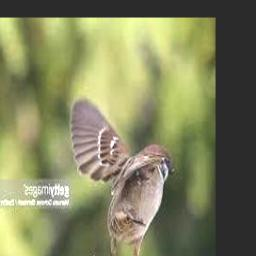Sparrow: (71, 95, 178, 256)
